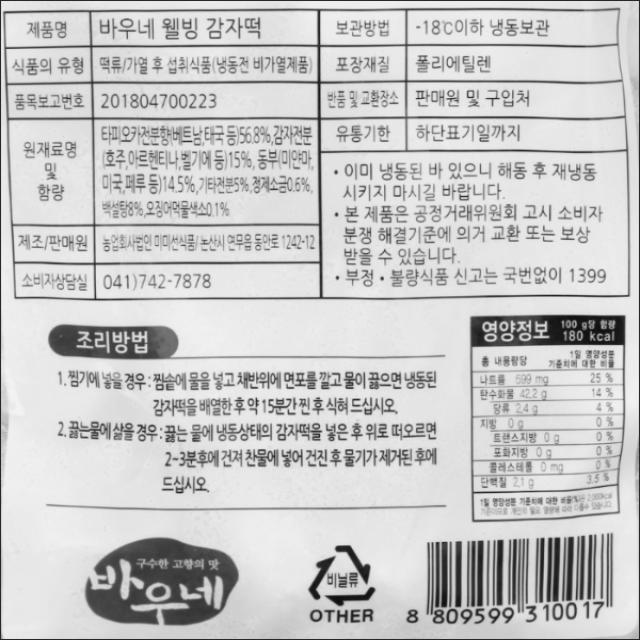Nutrition Label: (468, 309, 634, 525)
